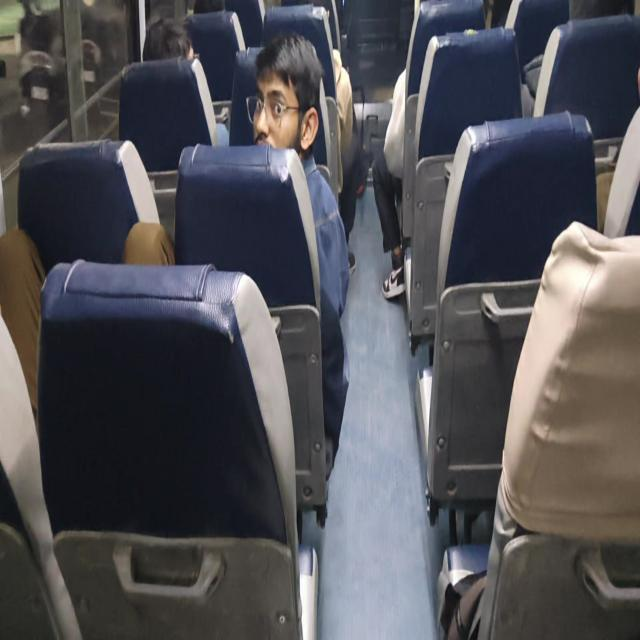person: (122, 32, 351, 482), (245, 31, 351, 481), (0, 219, 175, 429), (371, 0, 486, 299), (142, 17, 229, 146), (371, 66, 407, 300), (142, 16, 197, 62)
